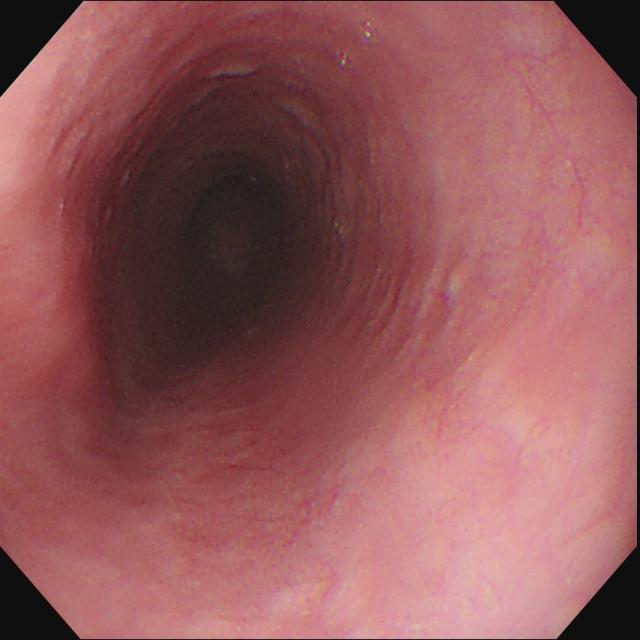E: (194, 176, 272, 303)
